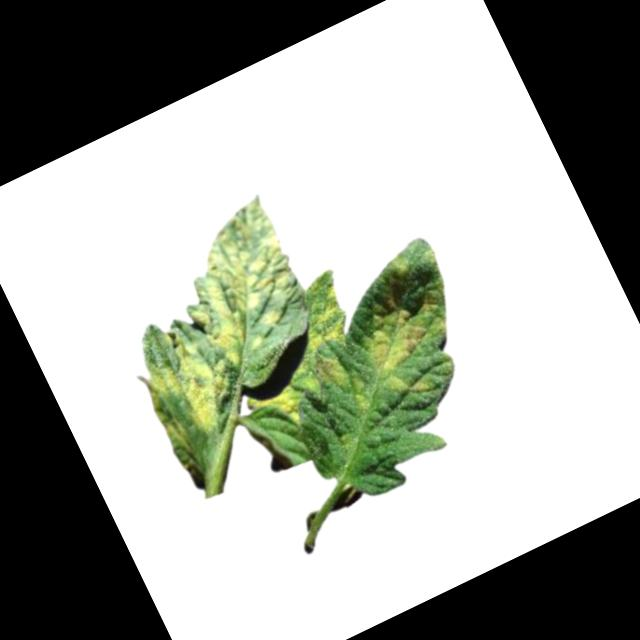Leaf_Mold: (164, 192, 324, 371), (345, 270, 472, 406), (128, 321, 246, 449), (289, 279, 355, 351), (249, 383, 308, 441), (305, 346, 351, 399)
